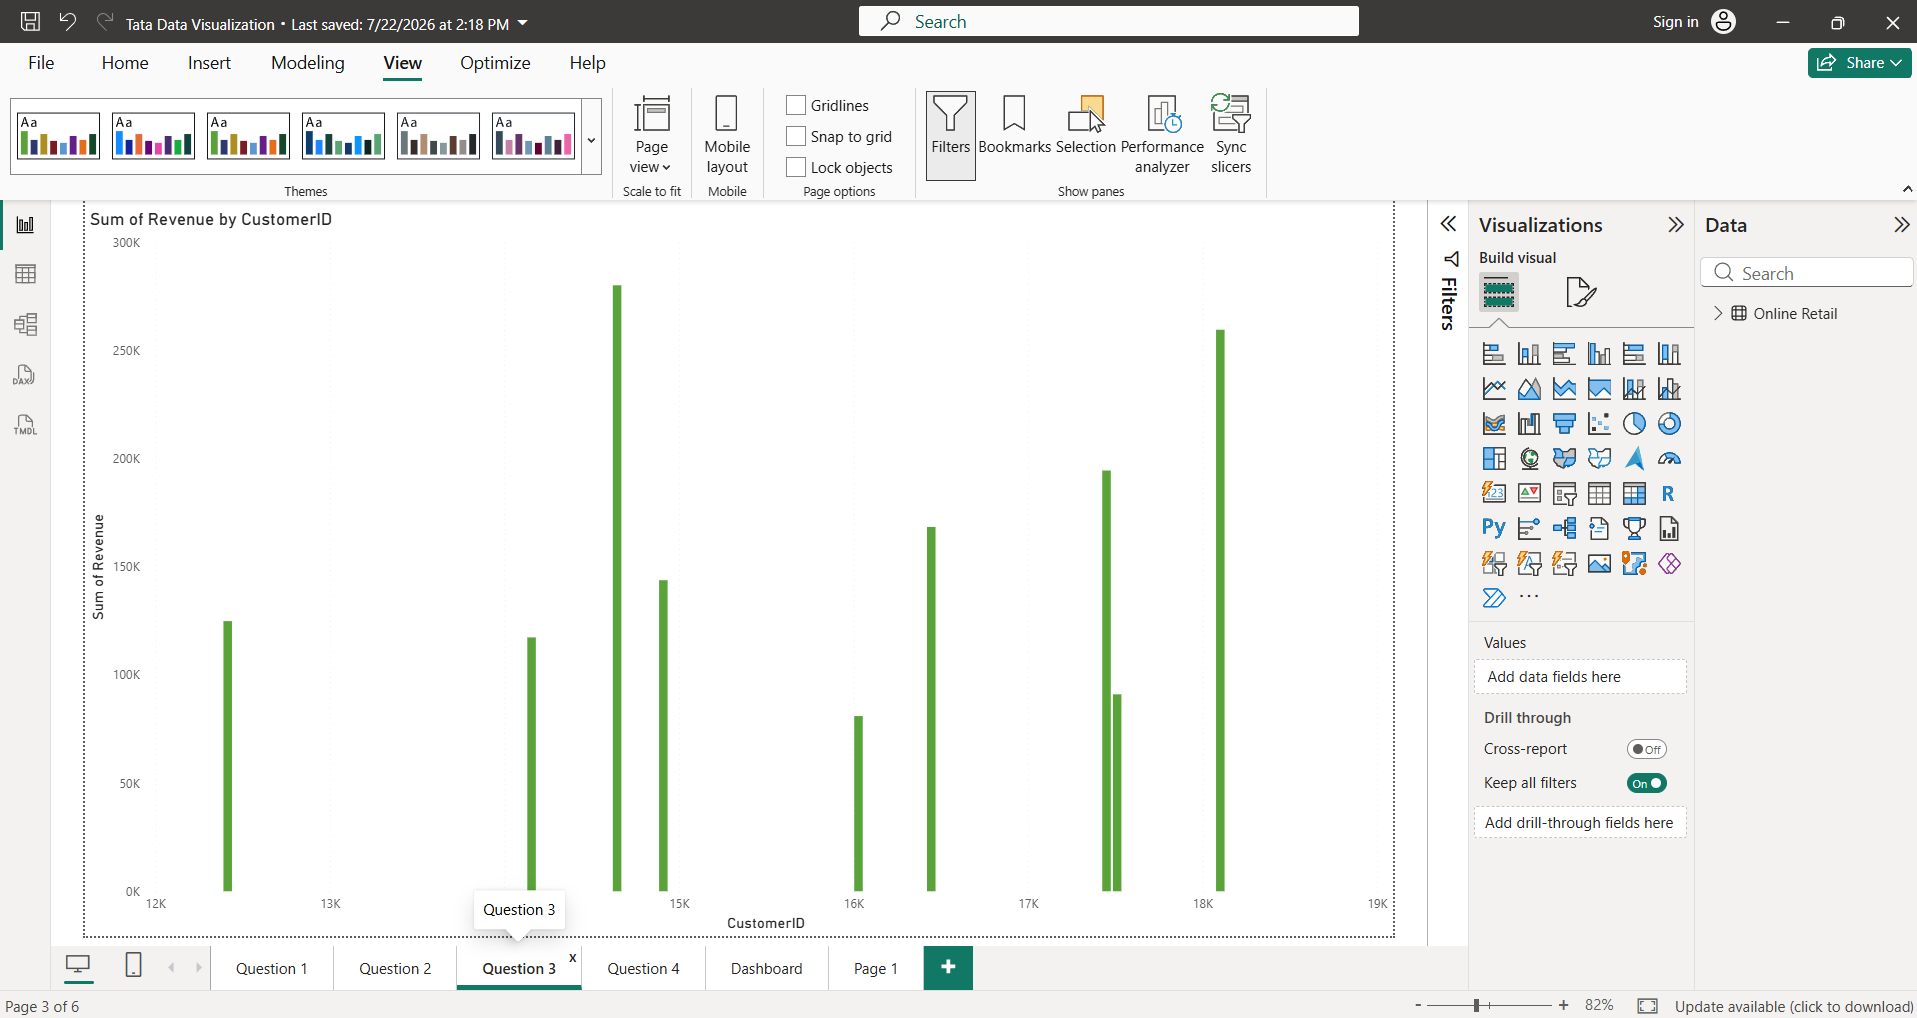

The dashboard page shown, as its layout file describes it:
{"tool":"powerbi","page":{"name":"Question 3","canvas":[1280,720],"ordinal":2},"visuals":[{"type":"clusteredColumnChart","fields":{"Category":["Online Retail.CustomerID"],"Y":["Sum(Online Retail.Revenue)"]},"box":[152.5,77.5,795,565],"z":0}]}

Visuals, with their boxes on the page's 1280x720 design canvas (x1, y1, x2, y2). These are canvas units, not pixel positions in the 1917x1018 screenshot, which may show the page scaled, cropped or inside an application window:
clusteredColumnChart - Online Retail.CustomerID x Sum(Online Retail.Revenue): {"x1": 152, "y1": 78, "x2": 948, "y2": 642}
